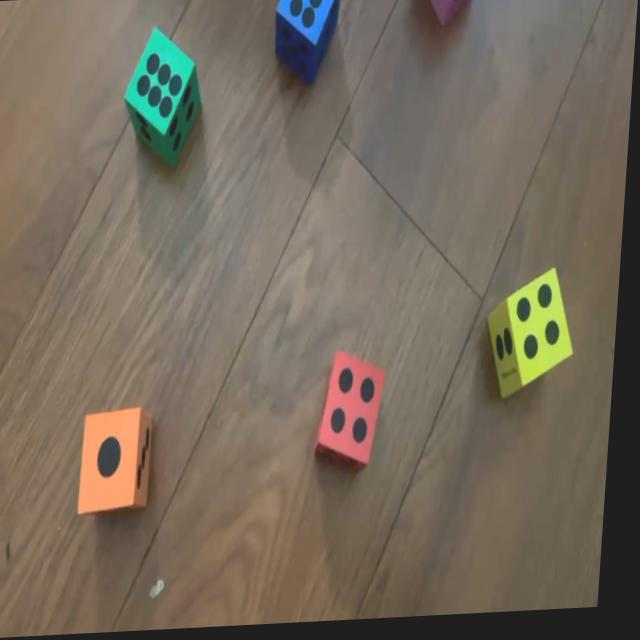blue_block: (274, 0, 341, 89)
red_block: (321, 351, 391, 470)
